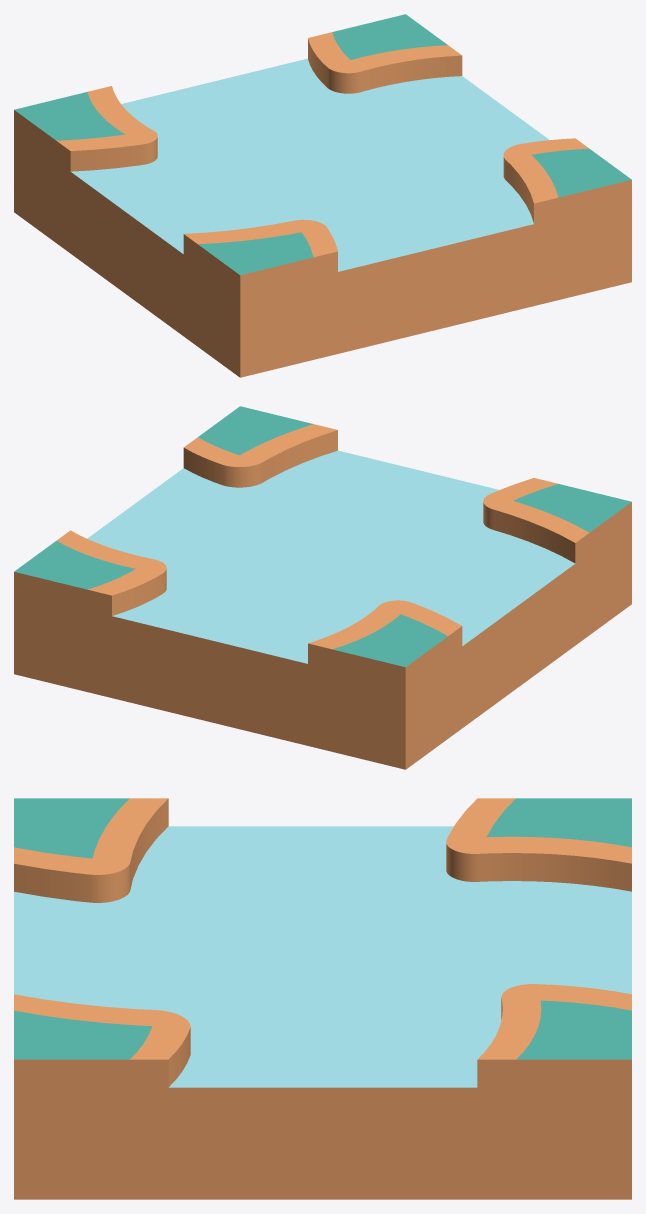
File: ground_dirtRiverCrossing.fbx
3 renders of one model, top to bottom at view 1: azimuth 30°, elevation 25°; view 2: azimuth 150°, elevation 25°; view 3: azimuth 270°, elevation 25°, orthographic. The views are drawn at different scales.
Visible parts, largest first — view 1: ground_dirtRiverCrossing; view 2: ground_dirtRiverCrossing; view 3: ground_dirtRiverCrossing.
Boxes of the visible parts, bbox=[...] form: ground_dirtRiverCrossing: bbox=[14, 14, 631, 377]; ground_dirtRiverCrossing: bbox=[14, 406, 631, 769]; ground_dirtRiverCrossing: bbox=[14, 798, 631, 1199].
Size of the model in its own units: 10 by 2.5 by 10.
